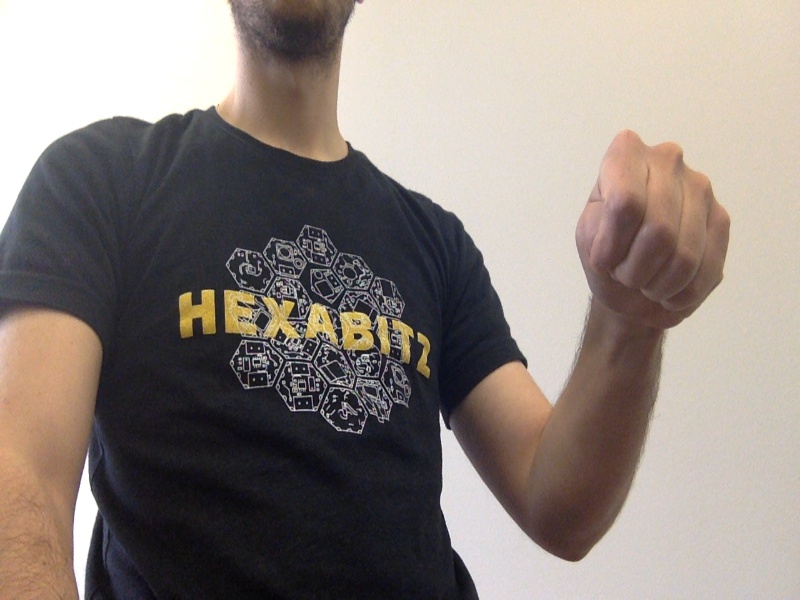0-hand: (573, 130, 729, 333)
